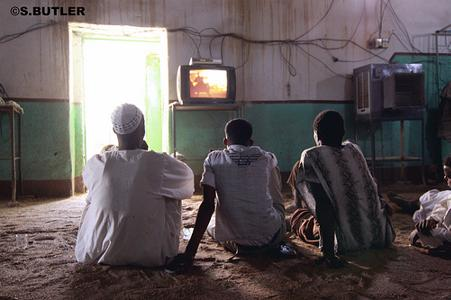person: (177, 119, 285, 271)
